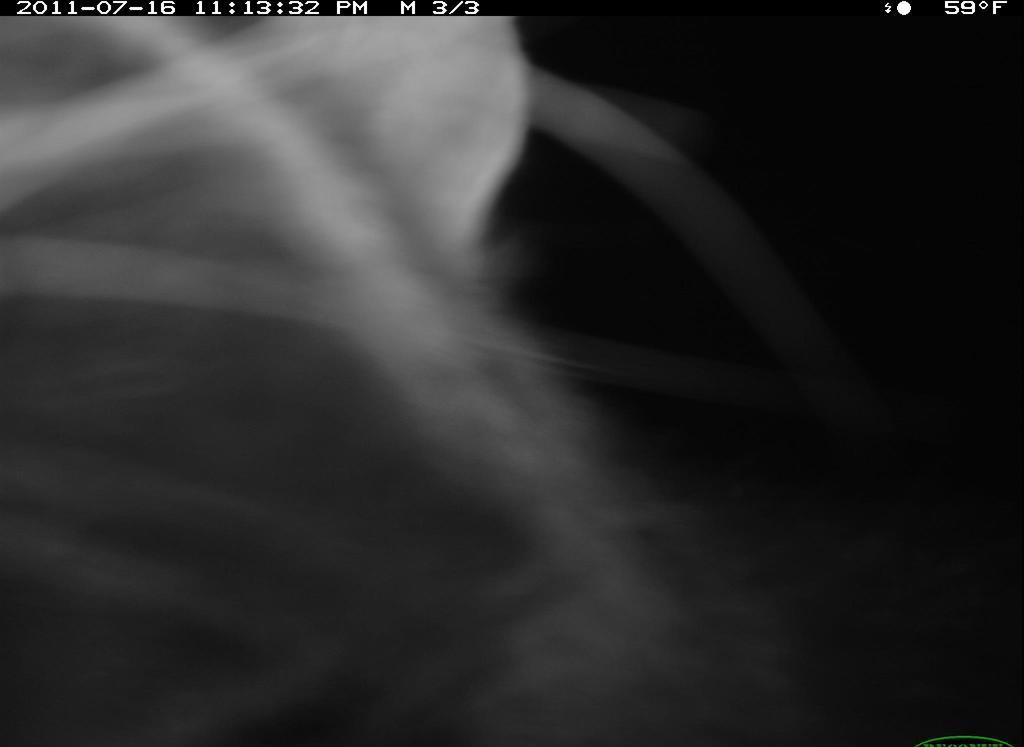raccoon: (18, 2, 838, 739)
